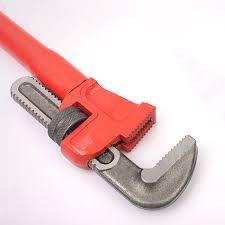wrench: (0, 7, 197, 210)
